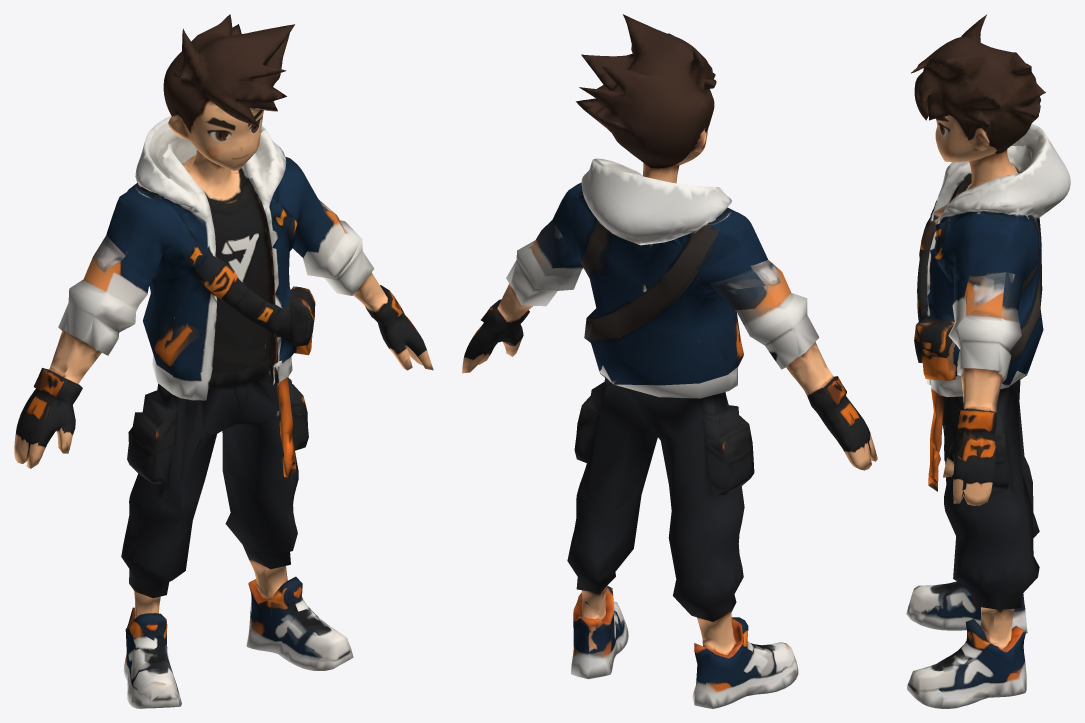
The model's file is player_meshy_clean.glb.
3 renders of one model, left to right at view 1: azimuth 30°, elevation 25°; view 2: azimuth 150°, elevation 25°; view 3: azimuth 270°, elevation 25°, orthographic. The views are drawn at different scales.
Parts seen in each view (by area): view 1: Player_Character_Mesh; view 2: Player_Character_Mesh; view 3: Player_Character_Mesh.
Boxes of the visible parts, <box> form: Player_Character_Mesh: <box>14,14,433,708</box>; Player_Character_Mesh: <box>462,14,877,708</box>; Player_Character_Mesh: <box>906,14,1070,708</box>.
Bounding box in the file's own units: 1.25 × 1.9 × 0.449.
1 material, 1 textured.
